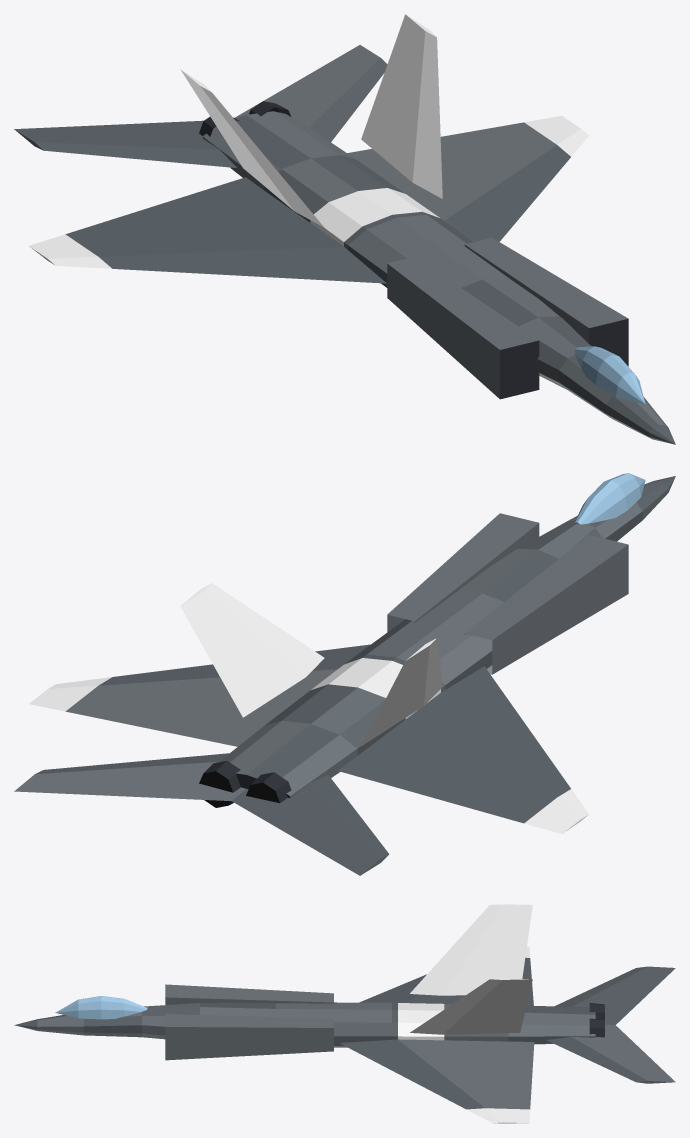
3 renders of one model, top to bottom at view 1: azimuth 30°, elevation 25°; view 2: azimuth 150°, elevation 25°; view 3: azimuth 270°, elevation 25°, orthographic. The views are drawn at different scales.
Parts seen in each view (by area): view 1: body; view 2: body; view 3: body.
Part boxes in pixels (bbox=[...]): body: bbox=[14, 14, 675, 444]; body: bbox=[14, 473, 675, 875]; body: bbox=[14, 904, 675, 1123].
Size of the model in its own units: 13.56 by 3.56 by 21.53.
